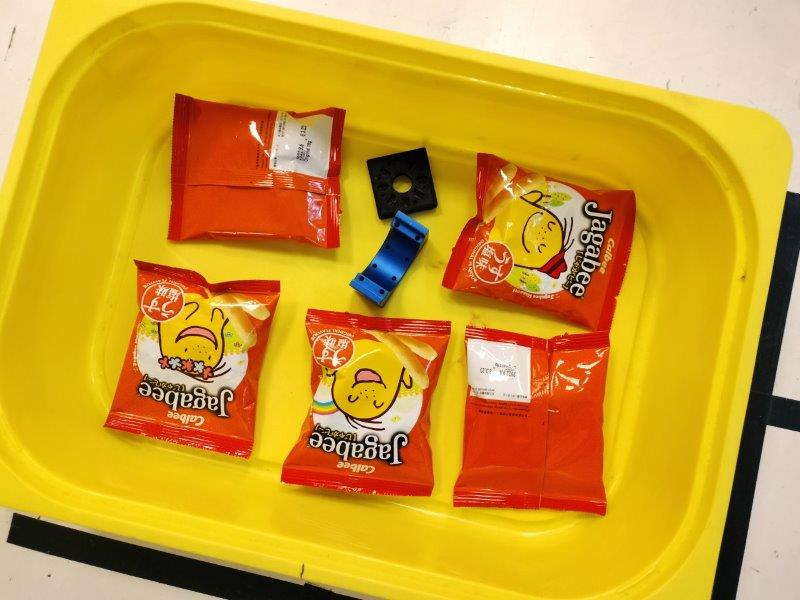Jagabee: (444, 152, 638, 335), (104, 259, 281, 458), (282, 309, 453, 497), (453, 327, 612, 519), (167, 95, 346, 249)
